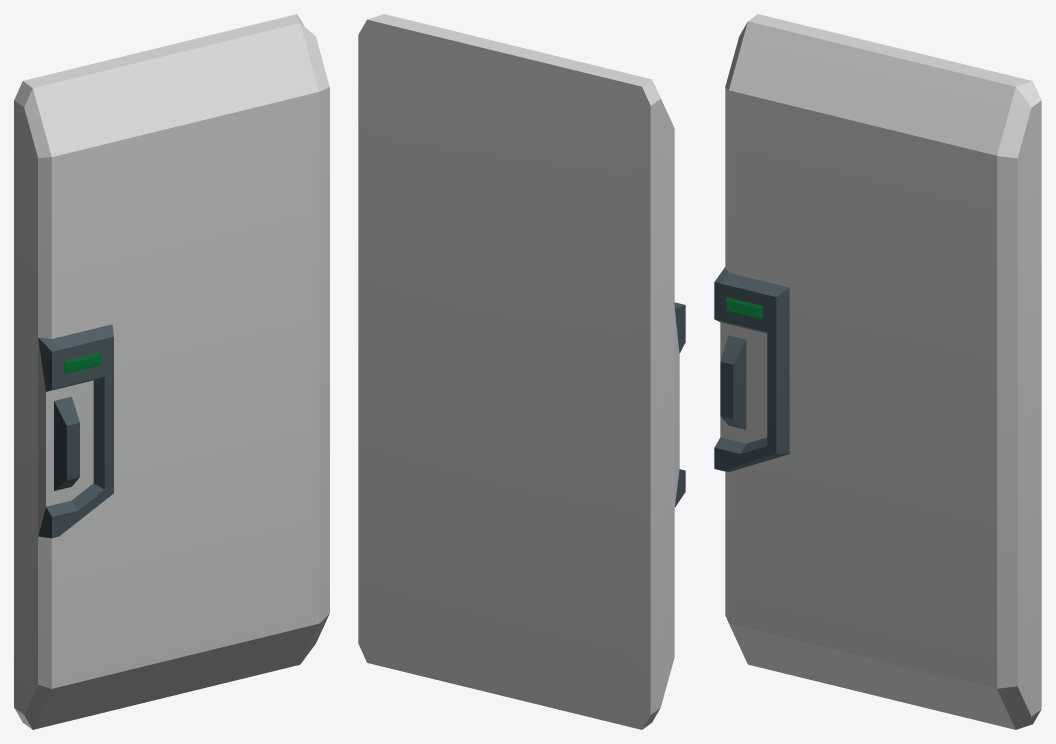
Rendered from Container_type_B_door_008.glb.
The picture shows the model from 3 angles, left to right: view 1: azimuth 30°, elevation 25°; view 2: azimuth 150°, elevation 25°; view 3: azimuth 330°, elevation 25°; orthographic projection.
Parts seen in each view (by area): view 1: Container_type_B_door_008; view 2: Container_type_B_door_008; view 3: Container_type_B_door_008.
Boxes of the visible parts, left/top/right/bottom form: Container_type_B_door_008: left=14, top=14, right=329, bottom=729; Container_type_B_door_008: left=358, top=14, right=685, bottom=729; Container_type_B_door_008: left=714, top=14, right=1041, bottom=729.
Bounding box in the file's own units: 0.8416 × 1.77 × 0.2043.
2 materials, 2 textured.
